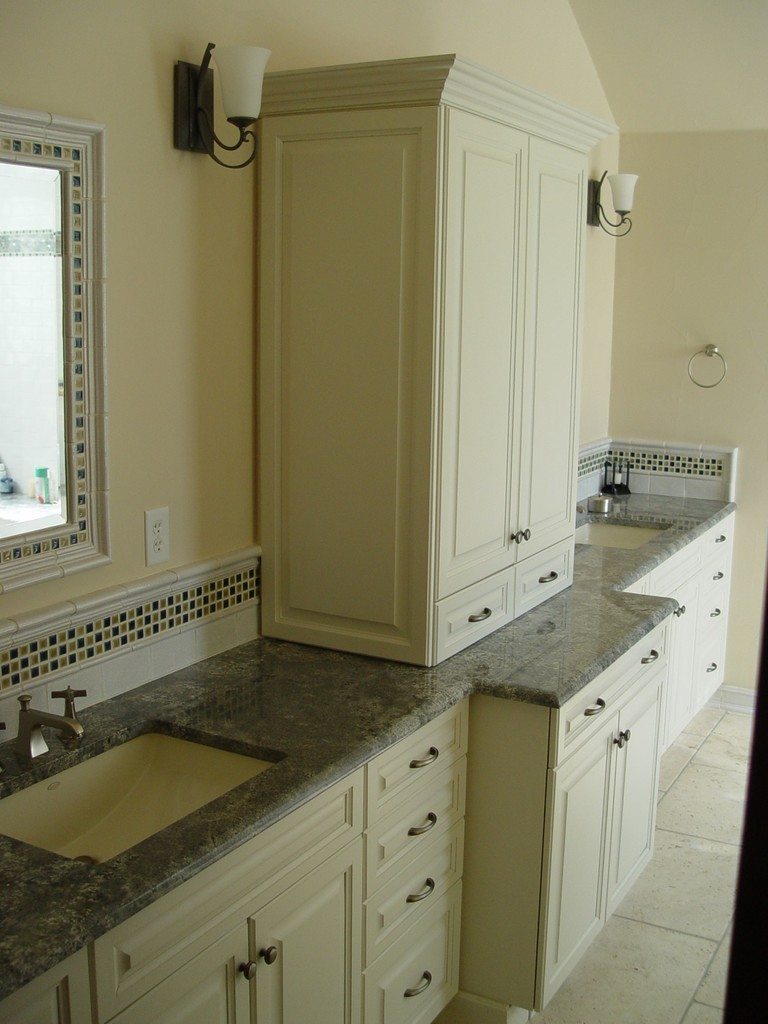cabinet door: (443, 112, 521, 556), (524, 144, 571, 543), (262, 909, 355, 1024), (558, 738, 605, 940), (373, 930, 458, 1020), (139, 959, 254, 1024), (619, 698, 659, 858), (567, 646, 659, 700), (441, 583, 511, 641), (383, 863, 457, 917), (377, 752, 457, 798), (671, 589, 697, 715), (377, 811, 458, 846), (521, 552, 574, 590), (697, 643, 726, 694), (705, 560, 731, 599), (704, 522, 733, 553), (703, 603, 726, 639)
handle: (405, 741, 442, 779), (579, 690, 610, 728), (410, 869, 434, 914), (402, 970, 438, 1000), (404, 806, 437, 838), (233, 949, 256, 993), (464, 600, 495, 627), (263, 930, 280, 974), (641, 641, 658, 680), (538, 565, 557, 593), (619, 715, 633, 752), (706, 649, 721, 680), (510, 515, 521, 552), (675, 594, 688, 622), (709, 602, 721, 631), (710, 565, 722, 593), (716, 529, 728, 555), (522, 516, 531, 545), (613, 727, 621, 755)
